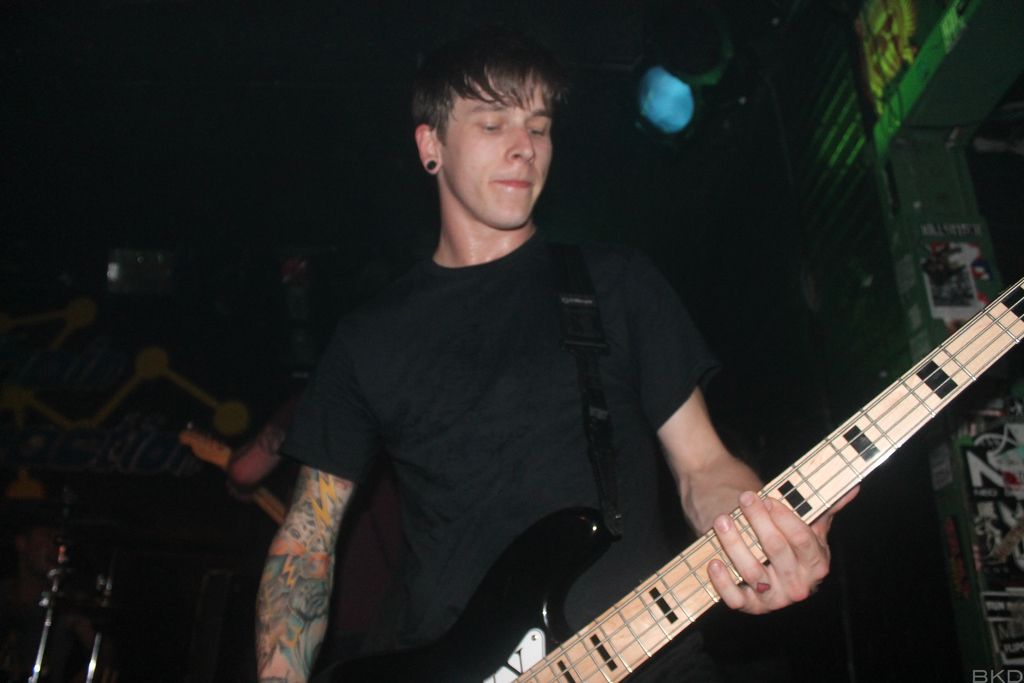Human_hand: (700, 484, 860, 618)
